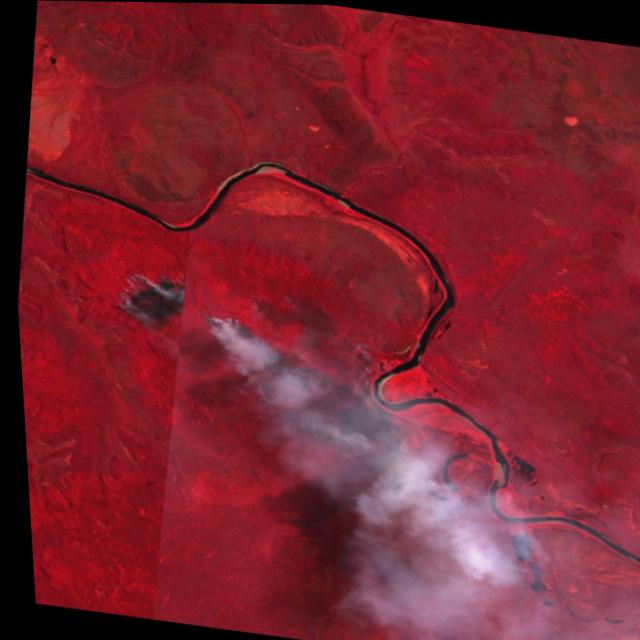fire: (82, 257, 430, 484)
